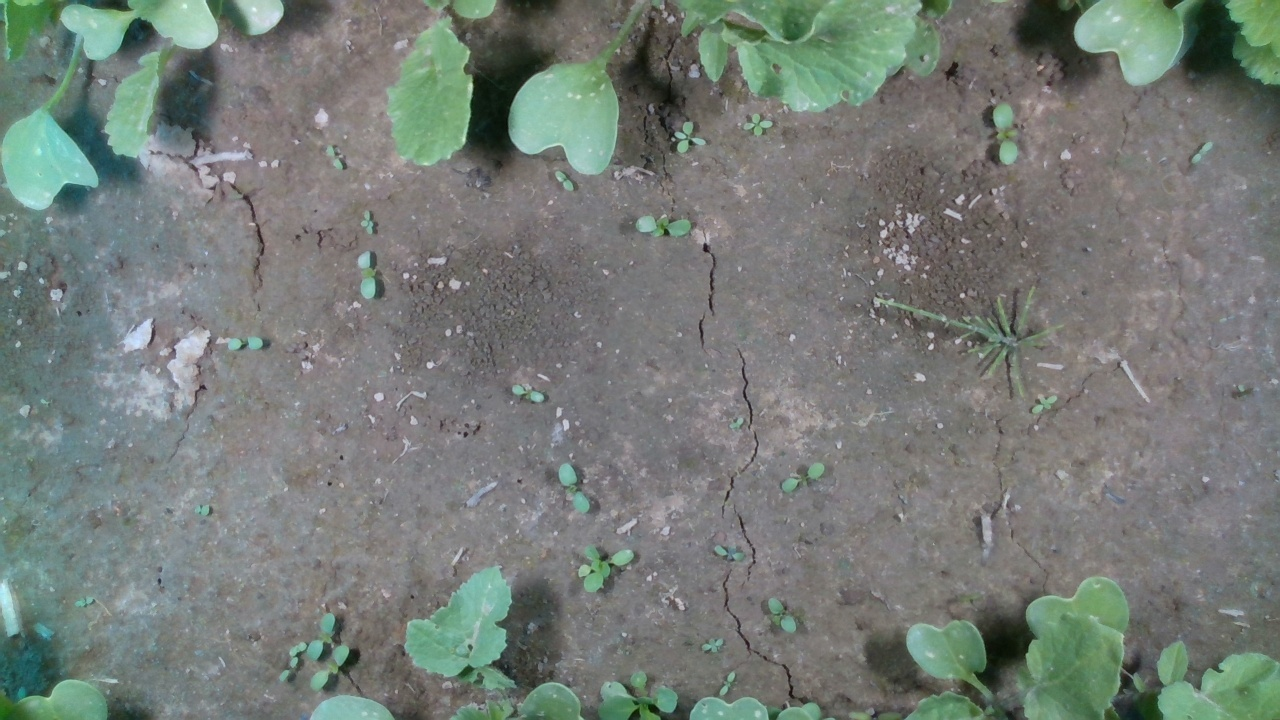weed: (991, 100, 1019, 167), (559, 461, 590, 515), (634, 213, 693, 238), (780, 462, 825, 492), (673, 120, 707, 154), (357, 249, 378, 302), (767, 597, 797, 633), (741, 111, 774, 137), (510, 381, 545, 403), (276, 656, 300, 683), (1190, 140, 1215, 165), (1031, 391, 1058, 414), (225, 335, 263, 351), (325, 143, 344, 172), (719, 669, 737, 698), (713, 544, 743, 561), (554, 170, 574, 193), (358, 209, 375, 235), (700, 637, 725, 653)
